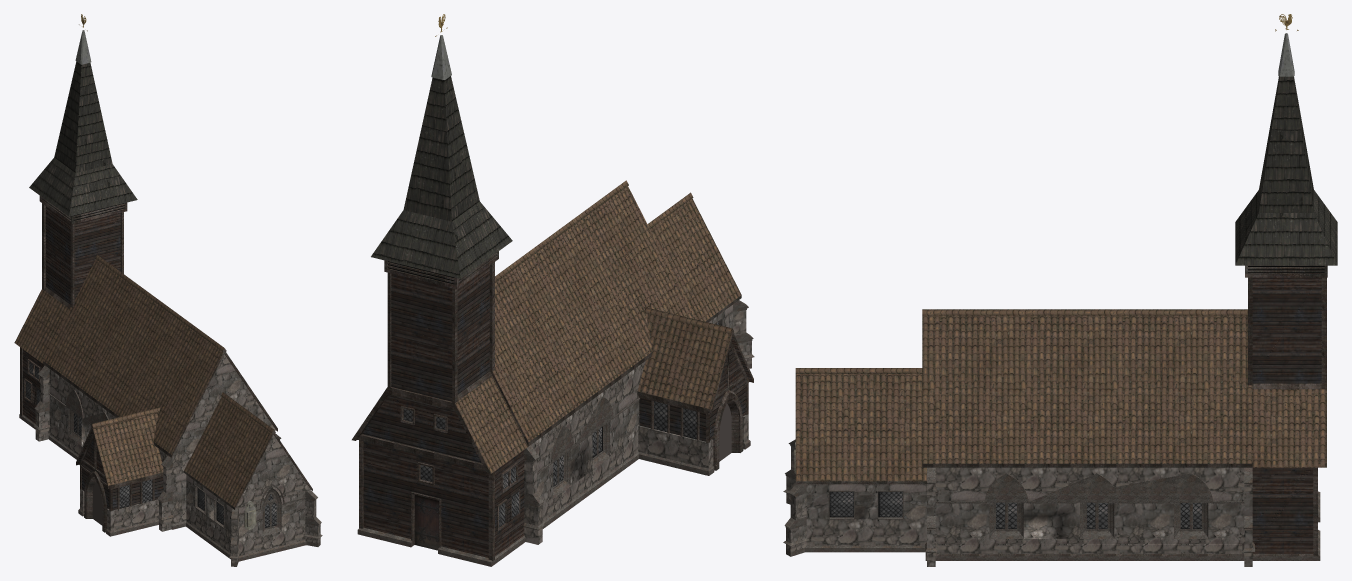
The model's file is church.obj.
3 views of the same model, side by side, from view 1: azimuth 30°, elevation 25°; view 2: azimuth 150°, elevation 25°; view 3: azimuth 270°, elevation 25° (orthographic). The views are drawn at different scales.
Visible parts, largest first — view 1: Medieval-Church; view 2: Medieval-Church; view 3: Medieval-Church.
Boxes of the visible parts, bbox=[...] form: Medieval-Church: bbox=[14, 14, 322, 566]; Medieval-Church: bbox=[352, 14, 754, 566]; Medieval-Church: bbox=[783, 14, 1337, 566].
Size of the model in its own units: 1.88 by 4.24 by 4.14.
17 materials, 14 textured.
